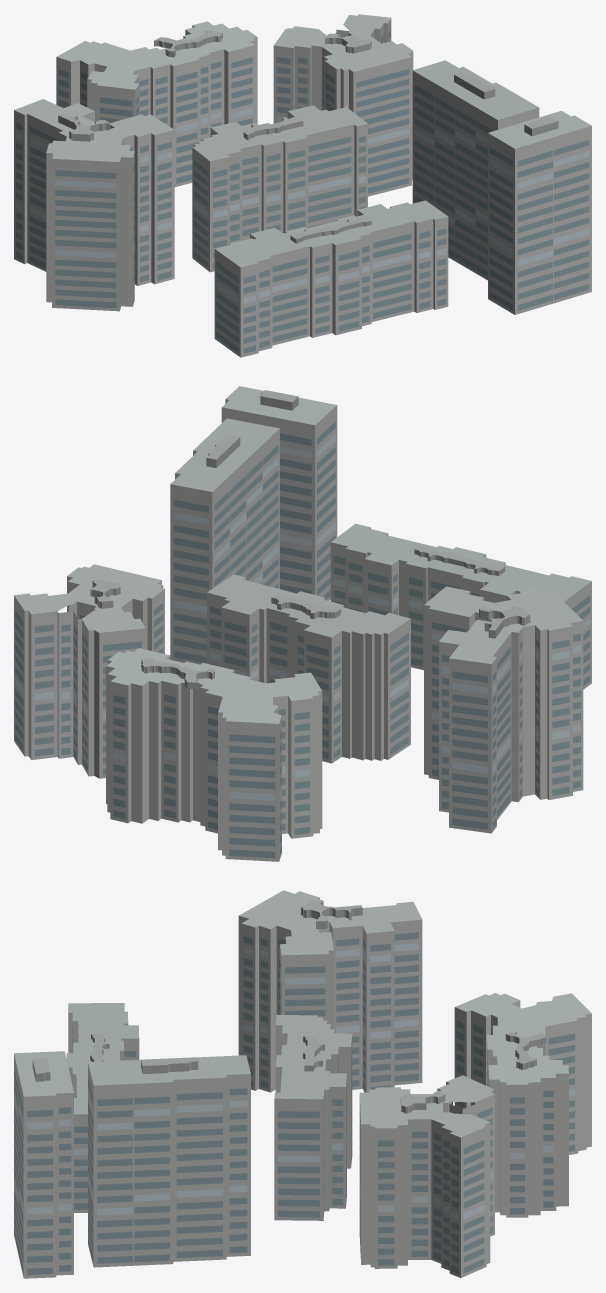
The model's file is apt-a10028033.glb.
3 renders of one model, top to bottom at view 1: azimuth 30°, elevation 25°; view 2: azimuth 150°, elevation 25°; view 3: azimuth 270°, elevation 25°, orthographic. The views are drawn at different scales.
Visible parts, largest first — view 1: apt-a10028033; view 2: apt-a10028033; view 3: apt-a10028033.
Part boxes in pixels (x1,y1,x2,y2): apt-a10028033: (14,14,591,357); apt-a10028033: (14,386,591,861); apt-a10028033: (14,890,591,1278).
Size of the model in its own units: 121 by 47.81 by 132.
